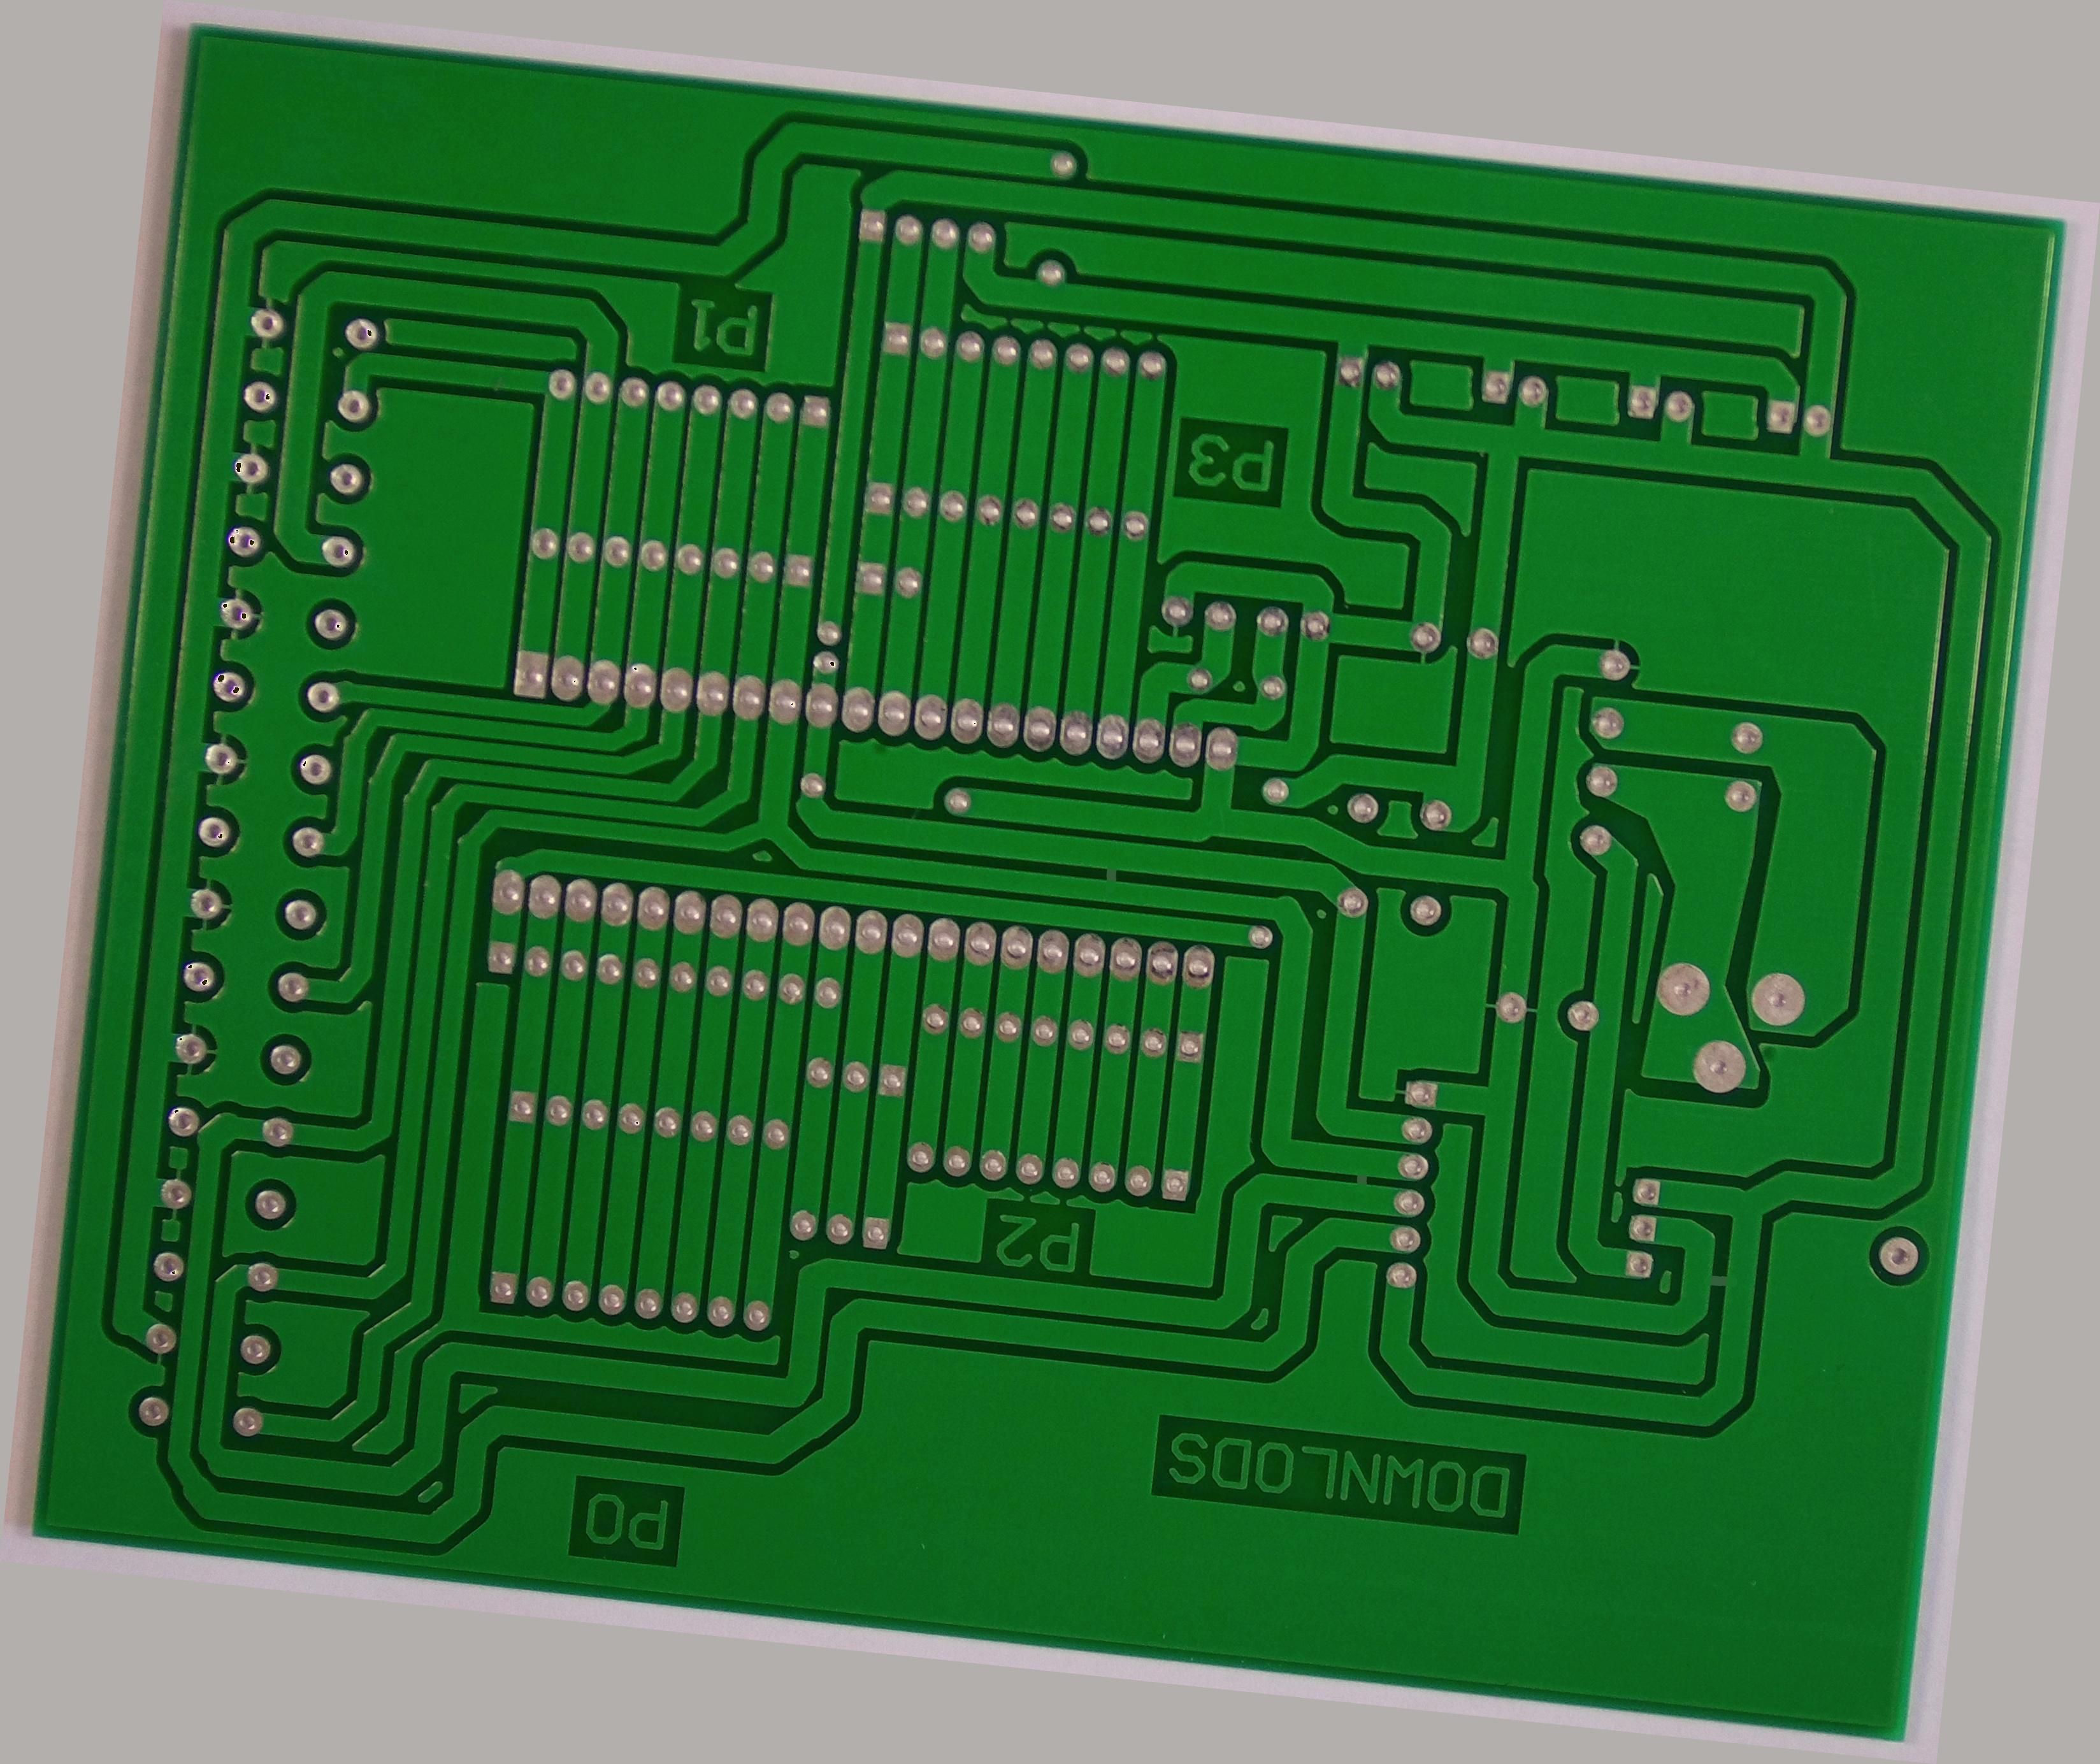short: (1671, 1237, 1753, 1321), (1080, 840, 1148, 910), (1332, 1146, 1395, 1213)
